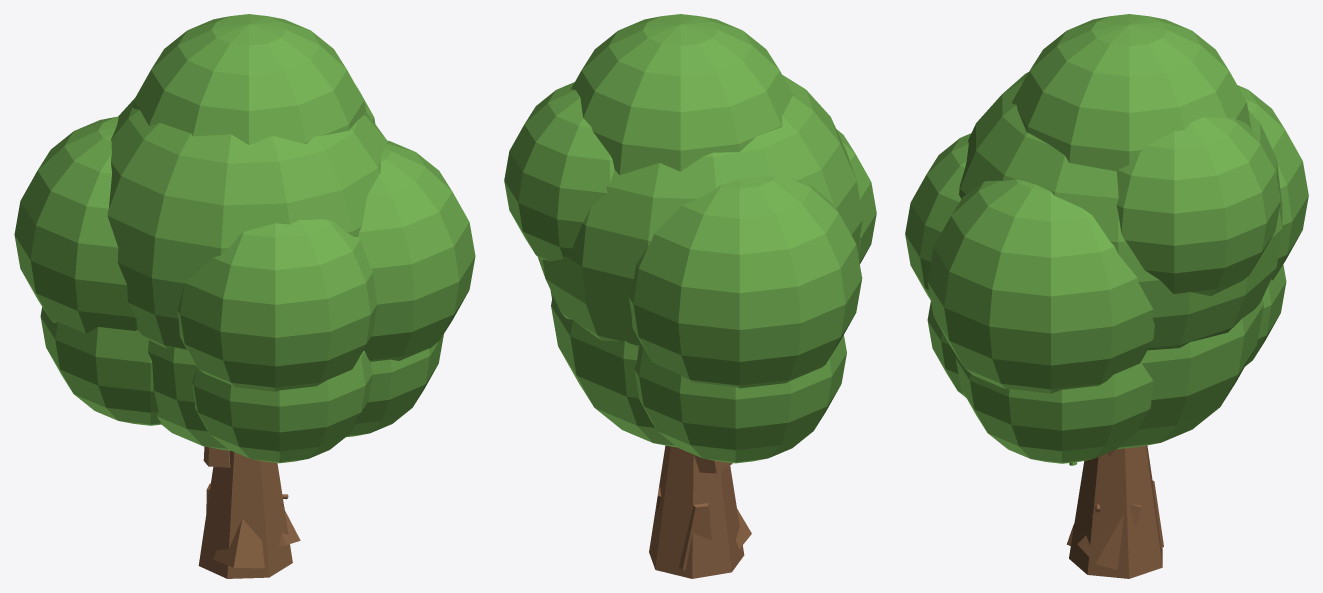
Rendered from tree-broadleaf.glb.
The picture shows the model from 3 angles, left to right: view 1: azimuth 30°, elevation 25°; view 2: azimuth 150°, elevation 25°; view 3: azimuth 270°, elevation 25°; orthographic projection.
Visible parts, largest first — view 1: Mesh_CanopyLight, Mesh_CanopyDark, Mesh_Trunk; view 2: Mesh_CanopyLight, Mesh_CanopyDark, Mesh_Trunk; view 3: Mesh_CanopyLight, Mesh_CanopyDark, Mesh_Trunk.
Boxes of the visible parts, x1=… form: Mesh_CanopyLight: x1=14, y1=14, x2=475, y2=391; Mesh_CanopyDark: x1=40, y1=307, x2=443, y2=463; Mesh_Trunk: x1=198, y1=446, x2=300, y2=578; Mesh_CanopyLight: x1=504, y1=14, x2=876, y2=388; Mesh_CanopyDark: x1=550, y1=290, x2=846, y2=463; Mesh_Trunk: x1=649, y1=445, x2=751, y2=578; Mesh_CanopyLight: x1=905, y1=14, x2=1308, y2=393; Mesh_CanopyDark: x1=927, y1=264, x2=1286, y2=463; Mesh_Trunk: x1=1066, y1=445, x2=1163, y2=578.
Size of the model in its own units: 3.8 by 5.3 by 3.6.
